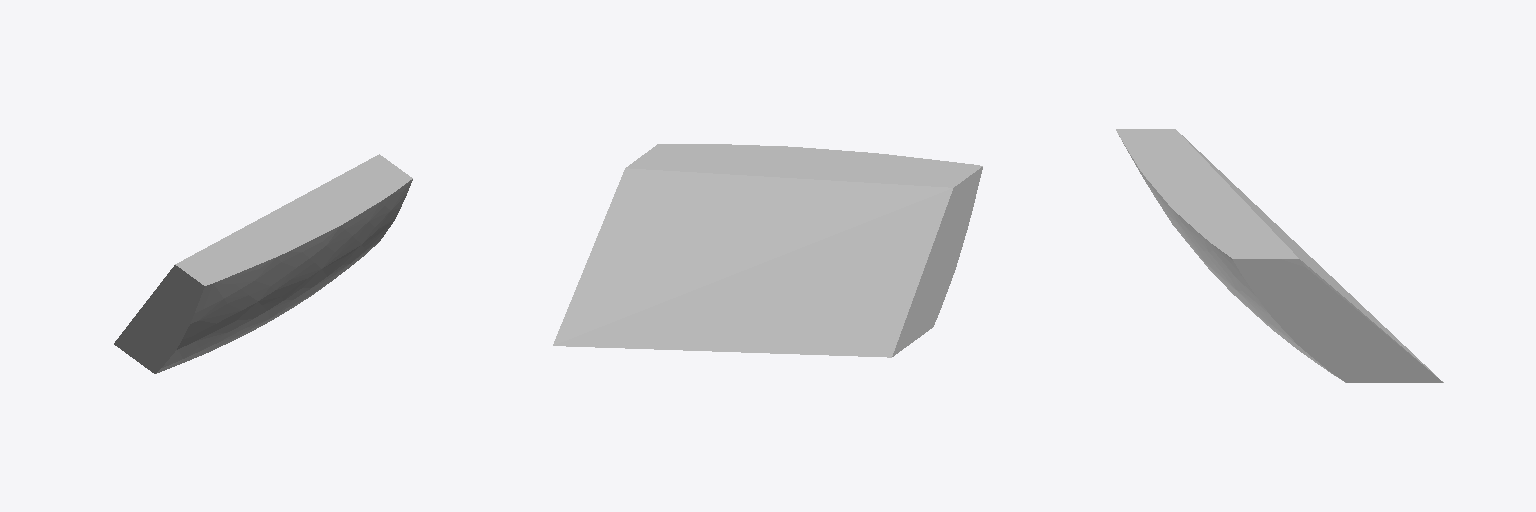
Rendered from pan_collision_20.obj.
The picture shows the model from 3 angles: view 1: azimuth 30°, elevation 25°; view 2: azimuth 150°, elevation 25°; view 3: azimuth 270°, elevation 25°; orthographic projection.
Bounding box in the file's own units: 0.0403 × 0.018 × 0.0431.